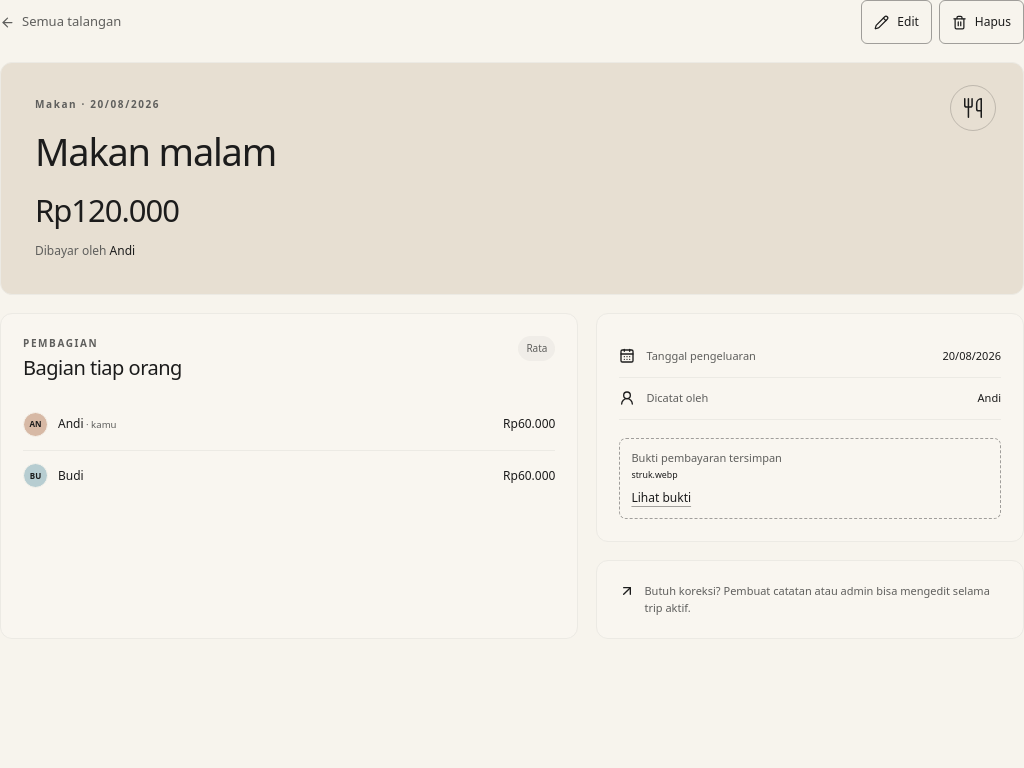
Scenario: ExpenseDetail receipt viewer › opens a signed receipt in a closable in-app dialog
Click the button "Lihat bukti" at {"x": 661, "y": 498}, box [631,489,691,507]
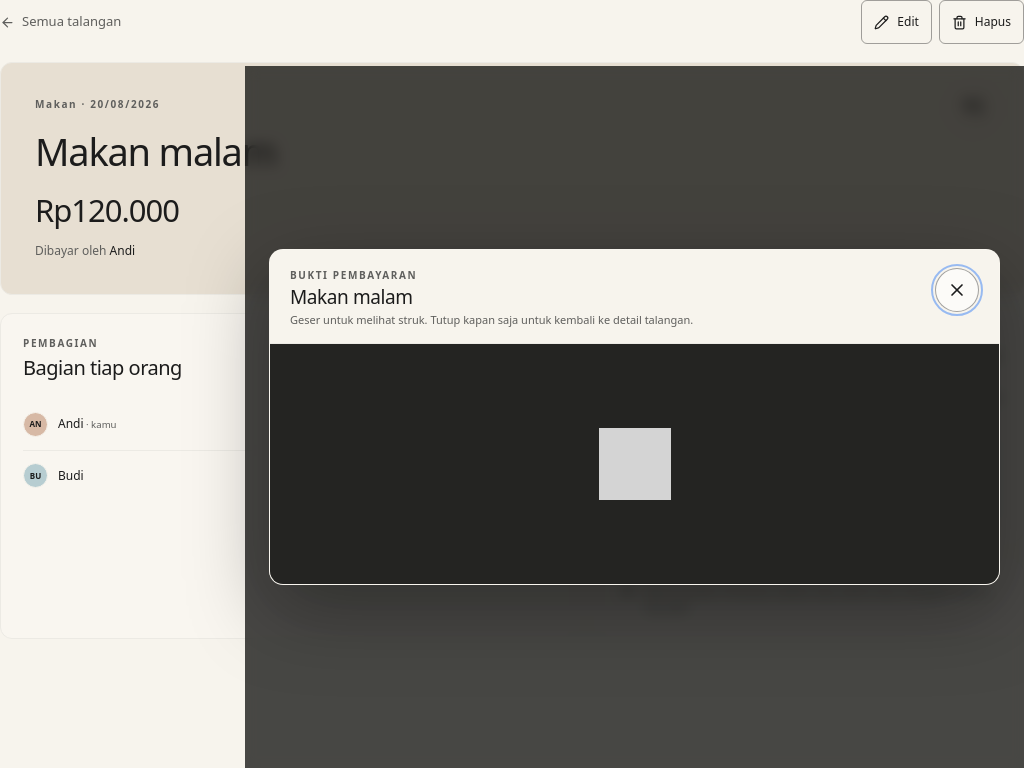
Expected: the dialog "Makan malam" is shown, [269,249,1000,585]
Press Escape
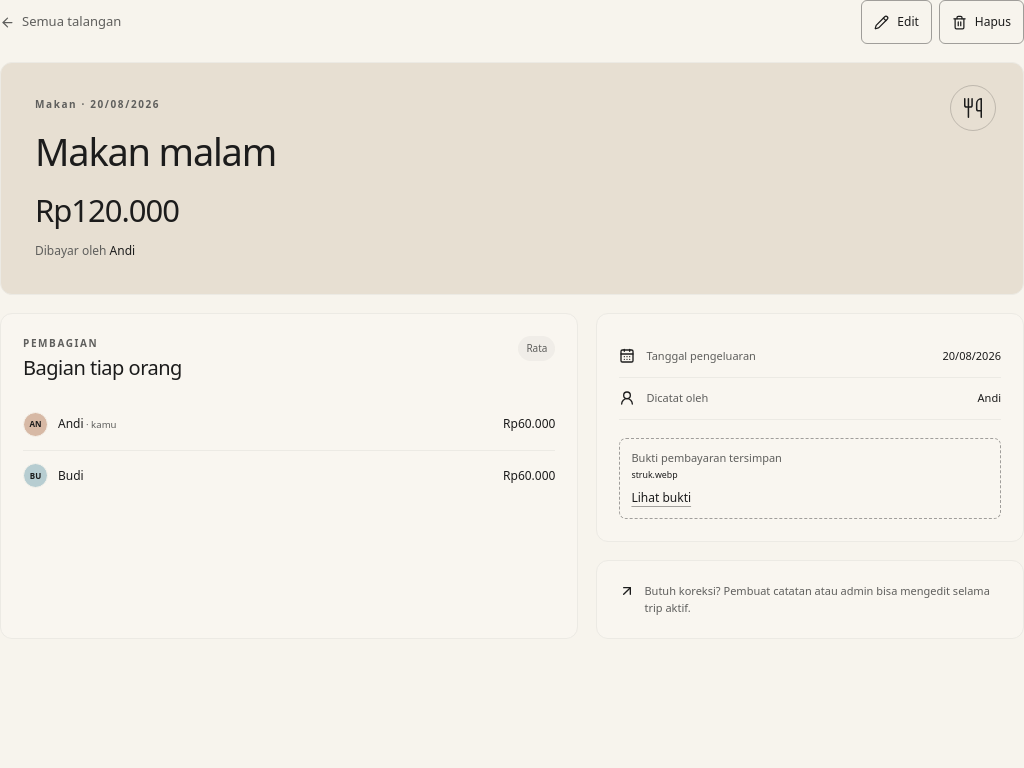
Expected: the dialog is gone
